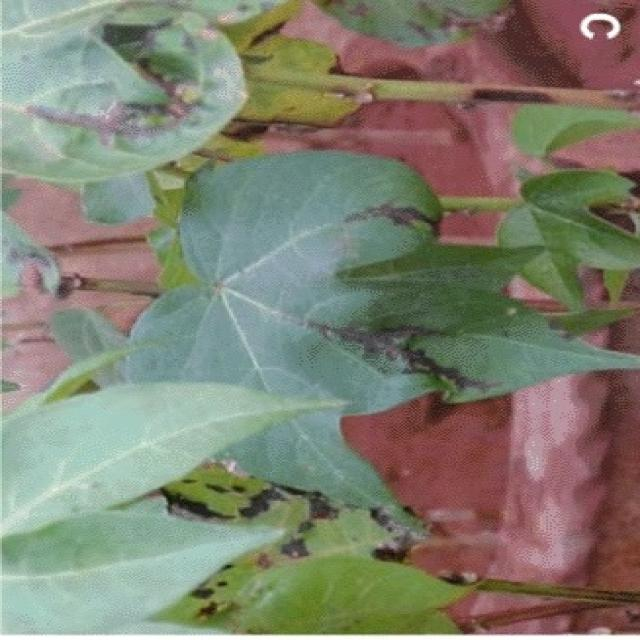Bacterial Blight: (303, 185, 523, 402)
